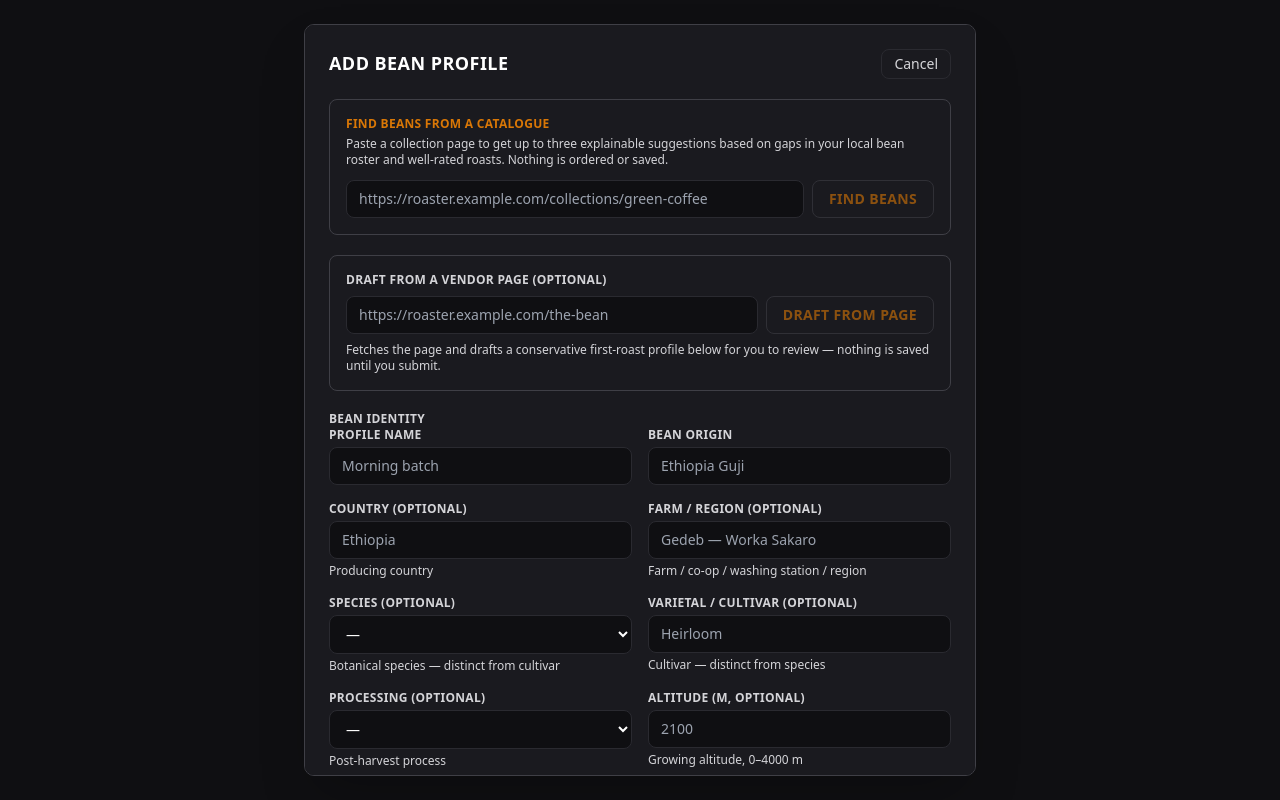
Test: BeanProfileModal draft-from-URL (#573 phase 1, #627, #637) › editing a field seeded with real provenance clears its badge (closes the #627b seam)
Type "https://roaster.example.com/guji-uraga" into the field with test id "bean-profile-draft-url" at point(552, 315), box x1=346 y1=296 x2=758 y2=334
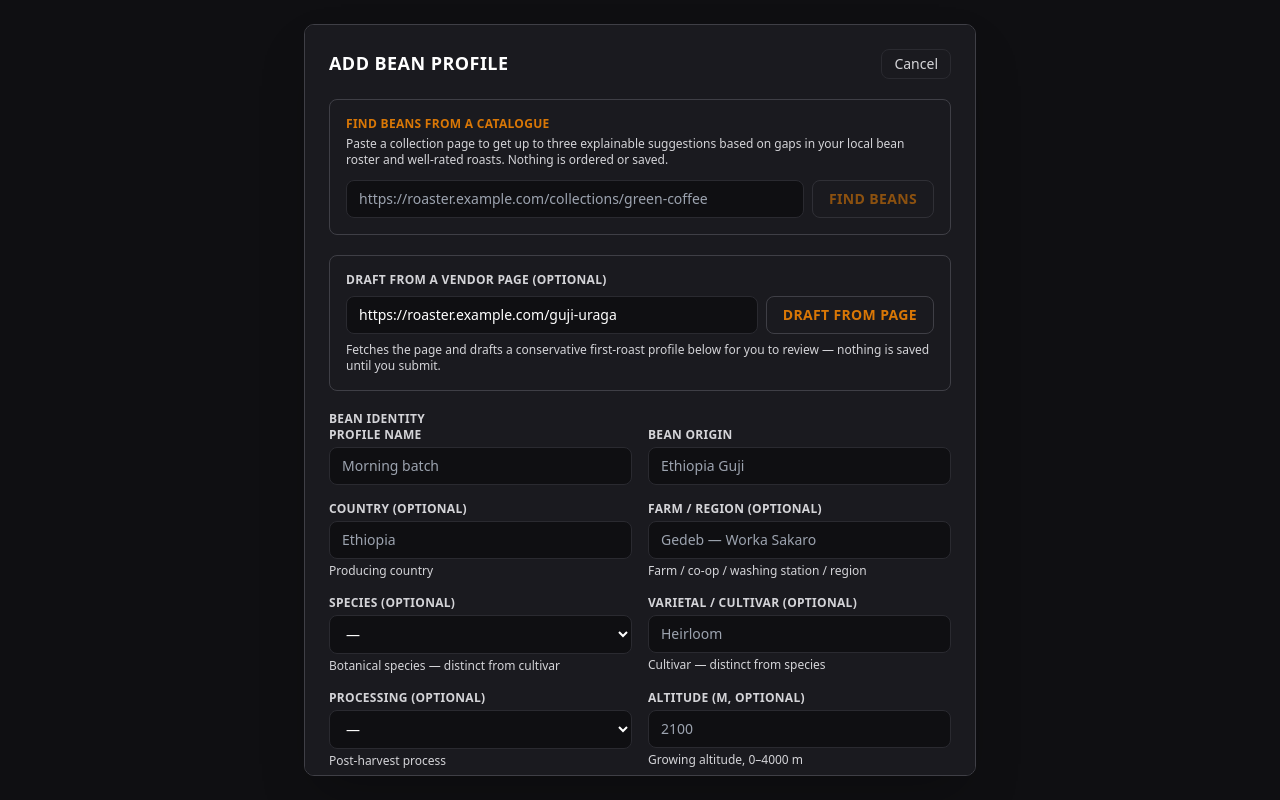
Click the button with test id "bean-profile-draft-button" at point(850, 315), box x1=766 y1=296 x2=934 y2=334
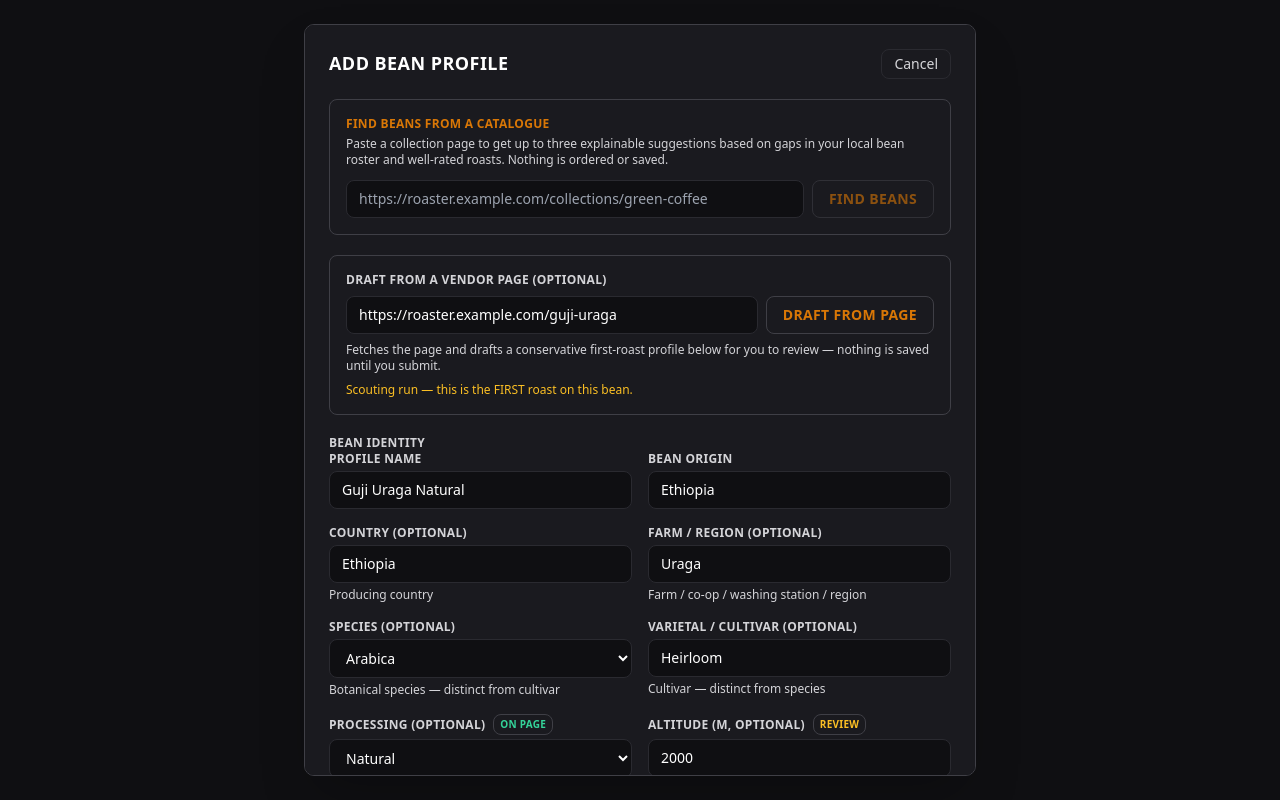
Result: the element with id "bean-profile-processing-provenance" is shown at x1=493 y1=714 x2=553 y2=735
Select "Washed" in the dropdown with test id "bean-profile-processing" at point(480, 758), box x1=329 y1=739 x2=632 y2=778
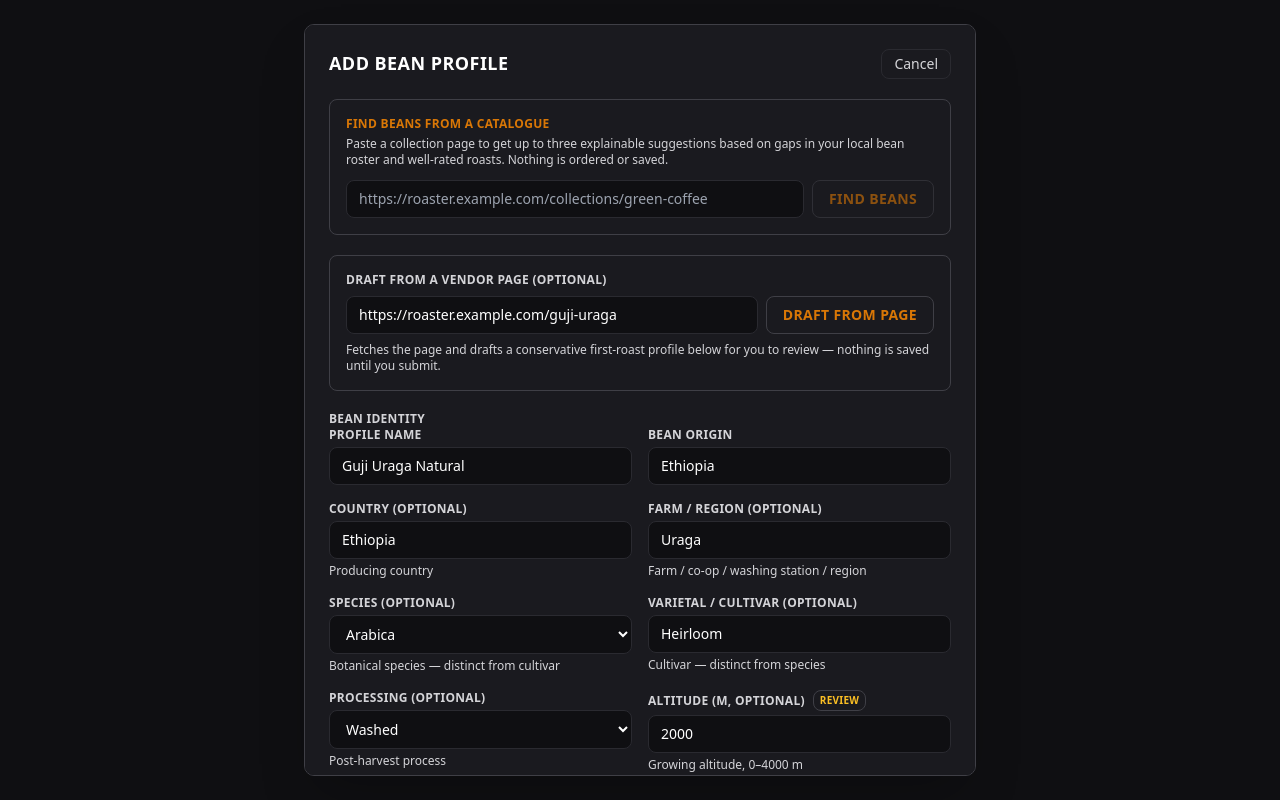
Result: the element with id "bean-profile-altitude_m-provenance" is shown at x1=813 y1=690 x2=866 y2=711
Result: the element with id "bean-profile-processing-provenance" is gone
